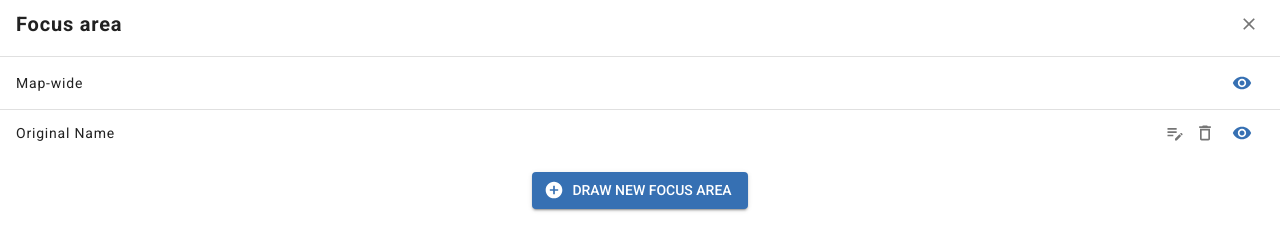
Test: FocusAreaView › Focus Area Actions › clears error when Escape is pressed
expect the text "Original Name" is shown: met, box [16,125,115,141]
Click the button named "Edit focus area name": (1175,133) [1160,118,1190,148]
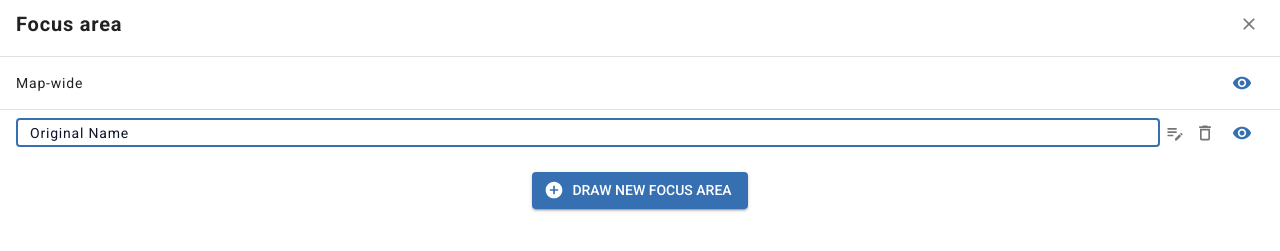
Clear the field showing "Original Name": (588,133) [16,119,1160,147]
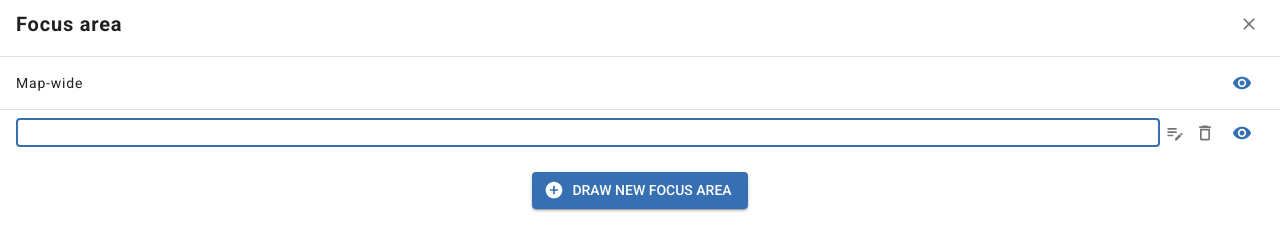
Leave the field showing "Original Name", box [16,119,1160,147]
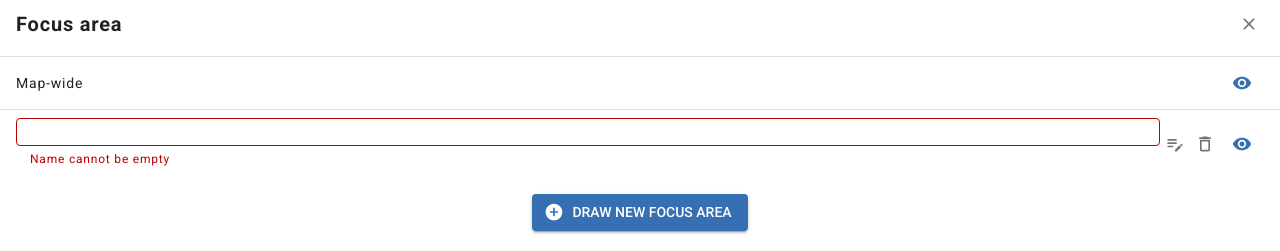
expect the text "Name cannot be empty" is shown: met, box [30,152,170,166]
Press Escape in the field showing "Original Name", box [16,118,1160,146]
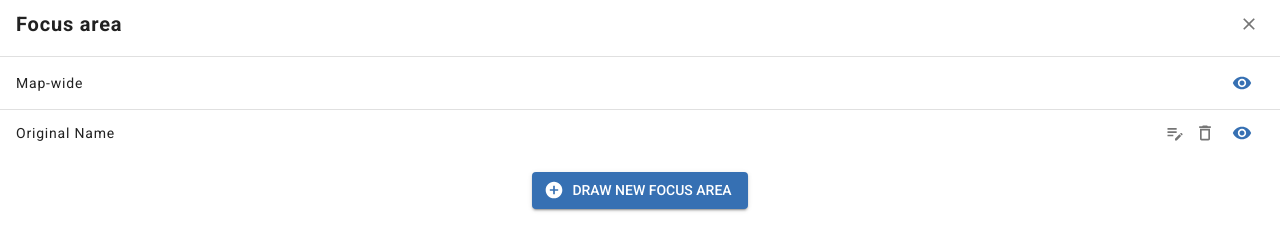
expect the text "Name cannot be empty" is gone: met
